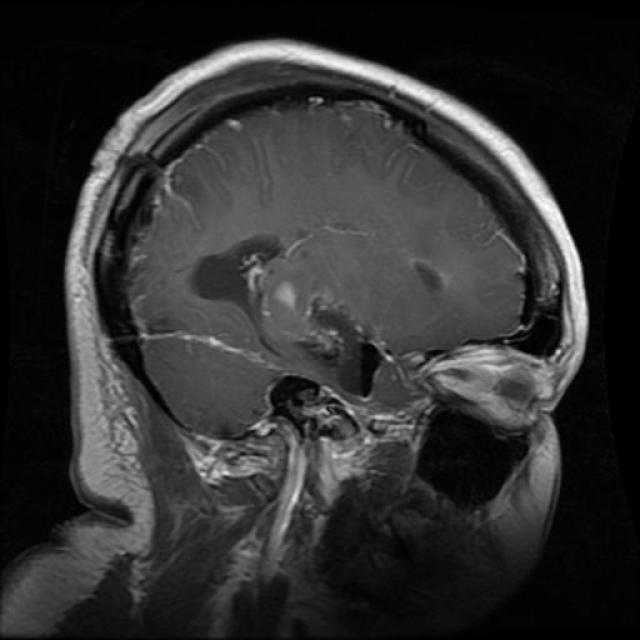glioma: (184, 221, 310, 361)
